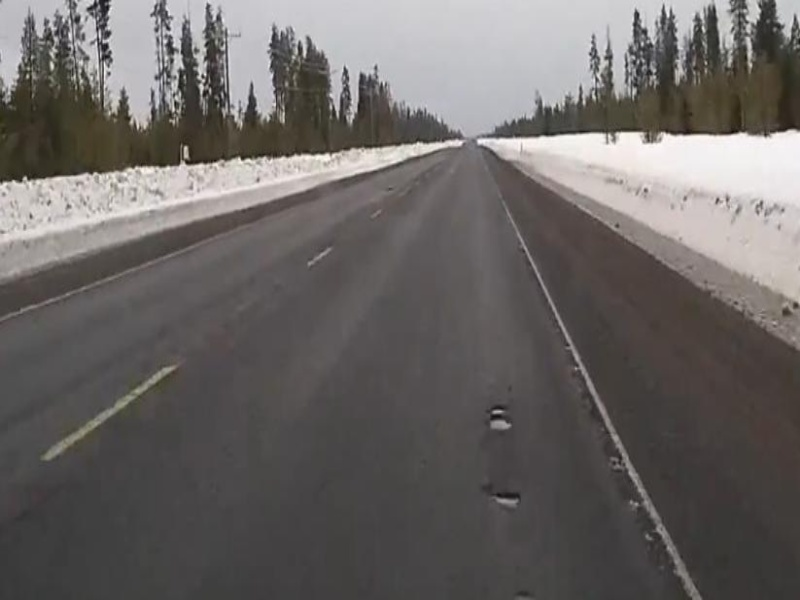pothole: (481, 399, 515, 437)
